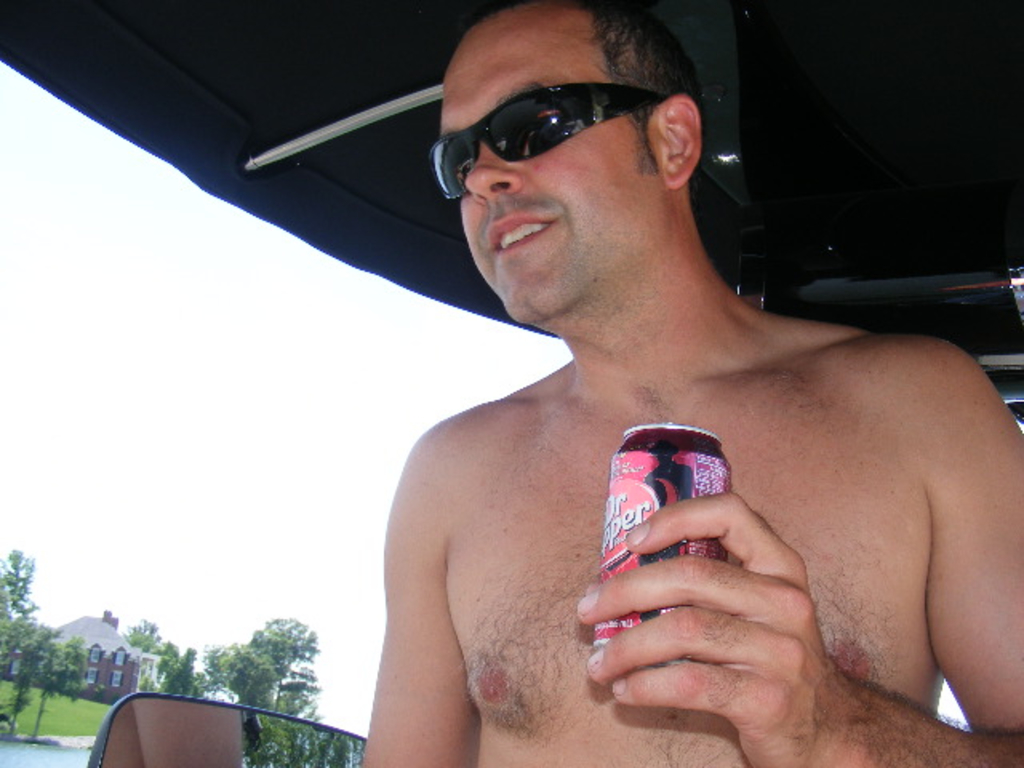Human_hand: (587, 466, 859, 750)
